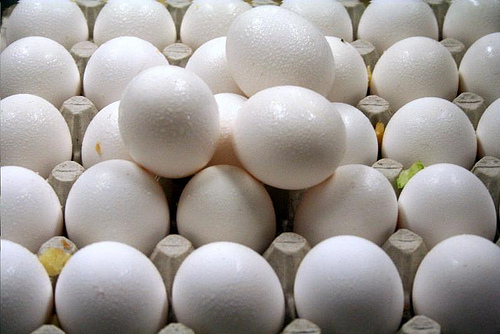egg: (0, 0, 499, 332)
